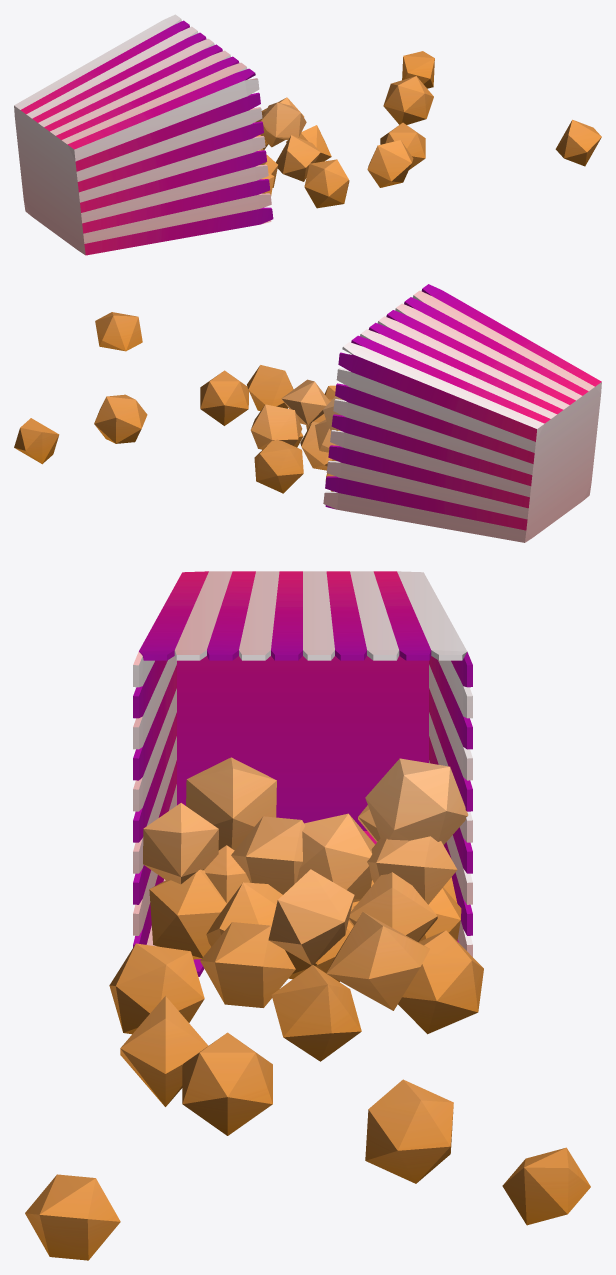
Rendered from popcorn.glb.
3 renders of one model, top to bottom at view 1: azimuth 30°, elevation 25°; view 2: azimuth 150°, elevation 25°; view 3: azimuth 270°, elevation 25°, orthographic. The views are drawn at different scales.
Parts seen in each view (by area): view 1: Popcorn; view 2: Popcorn; view 3: Popcorn.
Boxes of the visible parts, x1=… form: Popcorn: x1=14, y1=14, x2=601, y2=255; Popcorn: x1=14, y1=284, x2=601, y2=542; Popcorn: x1=25, y1=571, x2=590, y2=1260.
Size of the model in its own units: 1.66 by 0.491 by 0.823.
1 material, 1 textured.
